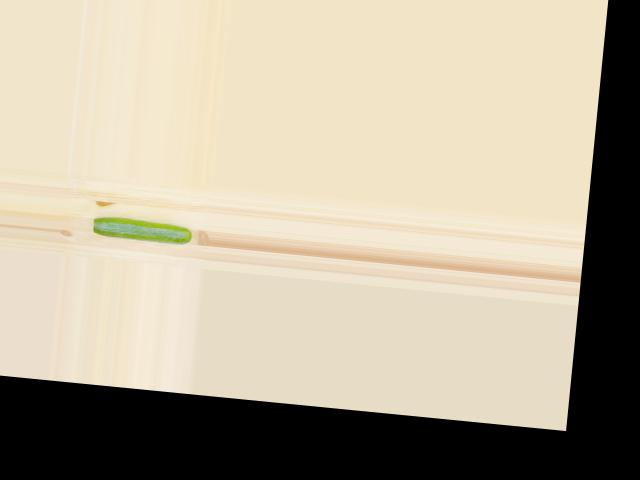cucumber: (93, 215, 193, 245)
